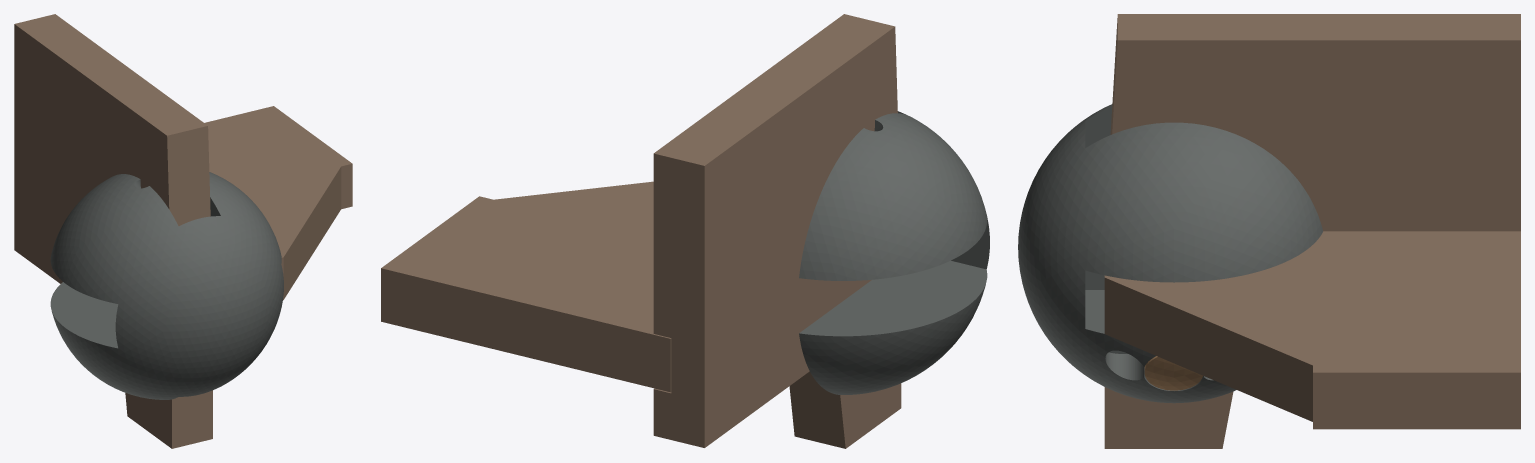
The model's file is sample-assembled.glb.
The picture shows the model from 3 angles, left to right: view 1: azimuth 30°, elevation 25°; view 2: azimuth 150°, elevation 25°; view 3: azimuth 270°, elevation 25°; orthographic projection. The views are drawn at different scales.
Visible parts, largest first — view 1: sphere-side-left-0, frame-left, shelf-0; view 2: frame-left, shelf-0, sphere-side-left-0; view 3: frame-left, shelf-0, sphere-side-left-0, key-side-left-0-0.
Part boxes in pixels (x1,y1,x2,y2): sphere-side-left-0: (50, 172, 283, 399); frame-left: (14, 14, 212, 448); shelf-0: (204, 106, 352, 300); frame-left: (653, 14, 901, 448); shelf-0: (381, 181, 671, 392); sphere-side-left-0: (799, 111, 989, 394); frame-left: (1104, 14, 1520, 448); shelf-0: (1104, 231, 1520, 429); sphere-side-left-0: (1018, 104, 1322, 403); key-side-left-0-0: (1144, 356, 1202, 390).
Size of the model in its own units: 0.149 by 0.13 by 0.145.
